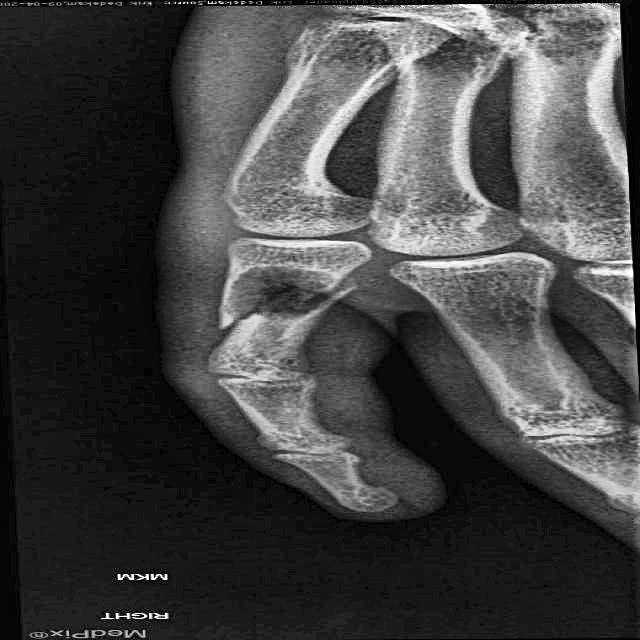Greenstick: (178, 246, 386, 340)
